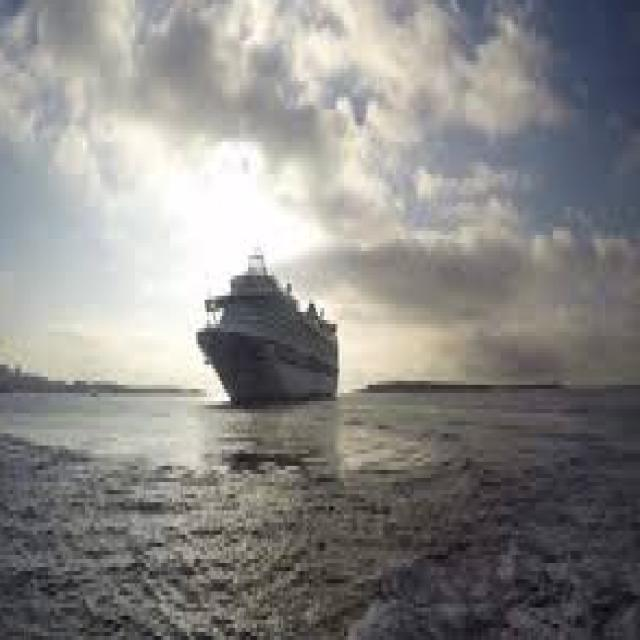passenger ship: (195, 248, 346, 406)
